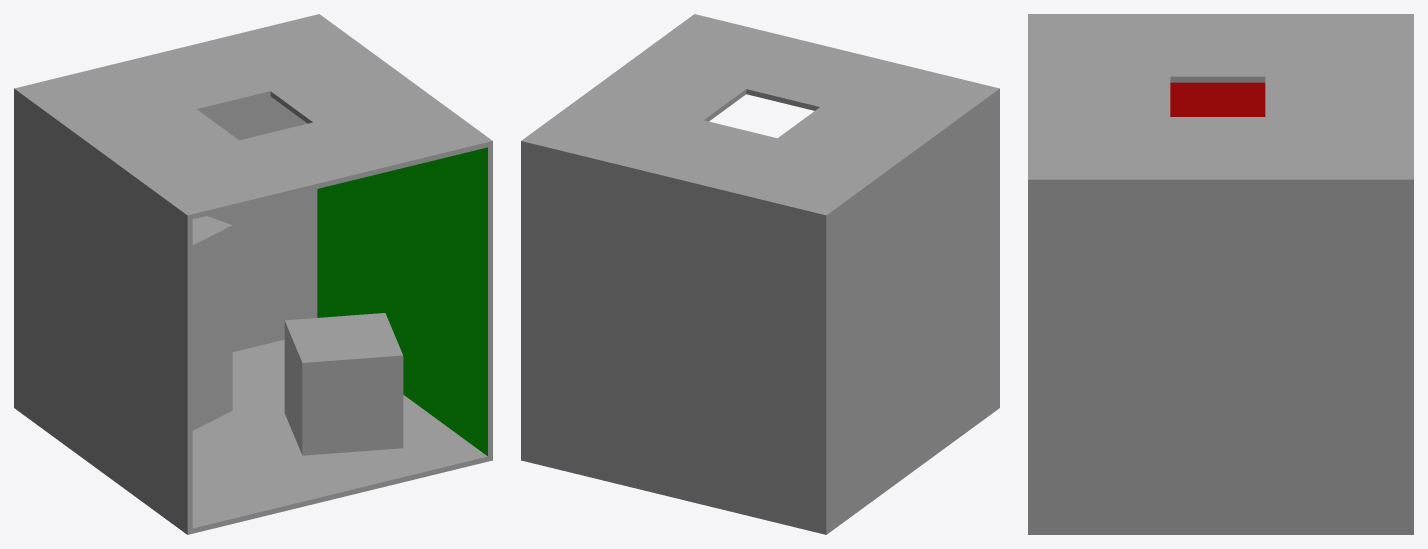
The model's file is CornellBox.fbx.
The picture shows the model from 3 angles, left to right: view 1: azimuth 30°, elevation 25°; view 2: azimuth 150°, elevation 25°; view 3: azimuth 270°, elevation 25°; orthographic projection. The views are drawn at different scales.
Parts seen in each view (by area): view 1: CornellBox_Outer, CornellBox_Inner, CornellBox_BlockA, CornellBox_BlockB; view 2: CornellBox_Outer; view 3: CornellBox_Outer, CornellBox_Inner.
Part boxes in pixels (x1,y1,x2,y2): CornellBox_Outer: (14, 14, 492, 534); CornellBox_Inner: (192, 96, 487, 528); CornellBox_BlockA: (284, 313, 403, 455); CornellBox_BlockB: (192, 216, 232, 430); CornellBox_Outer: (521, 14, 999, 534); CornellBox_Outer: (1028, 14, 1413, 534); CornellBox_Inner: (1170, 82, 1265, 116).
Bounding box in the file's own units: 517 × 517 × 508.
